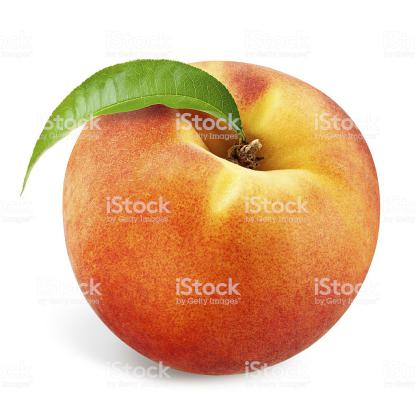peach leaf: (17, 53, 244, 194)
